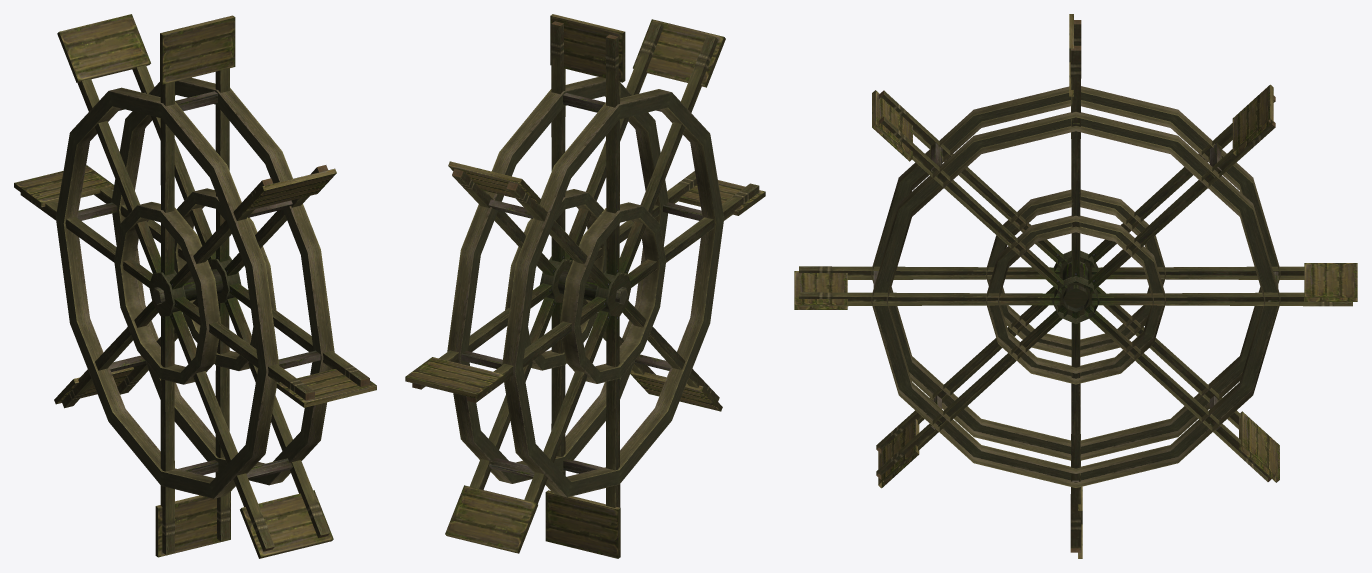
File: yw_yanziwu_shuiche.FBX
3 renders of one model, left to right at view 1: azimuth 30°, elevation 25°; view 2: azimuth 150°, elevation 25°; view 3: azimuth 270°, elevation 25°, orthographic. The views are drawn at different scales.
Parts seen in each view (by area): view 1: yw_yanziwu_shuiche; view 2: yw_yanziwu_shuiche; view 3: yw_yanziwu_shuiche.
Boxes of the visible parts, x1=… form: yw_yanziwu_shuiche: x1=14, y1=14, x2=376, y2=558; yw_yanziwu_shuiche: x1=405, y1=14, x2=765, y2=558; yw_yanziwu_shuiche: x1=794, y1=14, x2=1357, y2=558.
Bounding box in the file's own units: 152 × 1014 × 1014.
